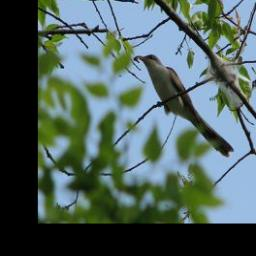Cuckoo: (136, 52, 235, 154)
